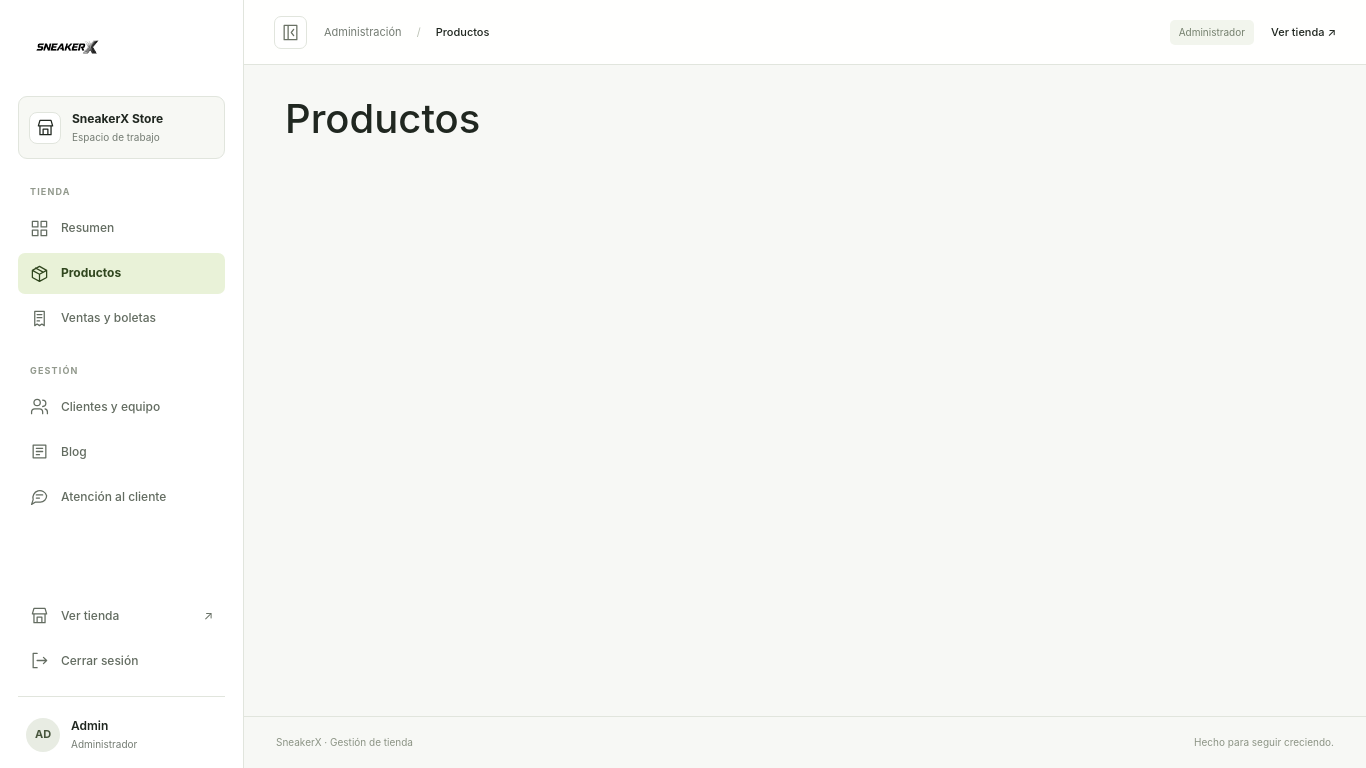
navegación administrativa › muestra el logo y conserva la navegación al contraer la barra
The width and height of the screenshot is (1366, 768).
Click the button named "Contraer barra lateral" at (290, 32), box x1=274 y1=16 x2=307 y2=48
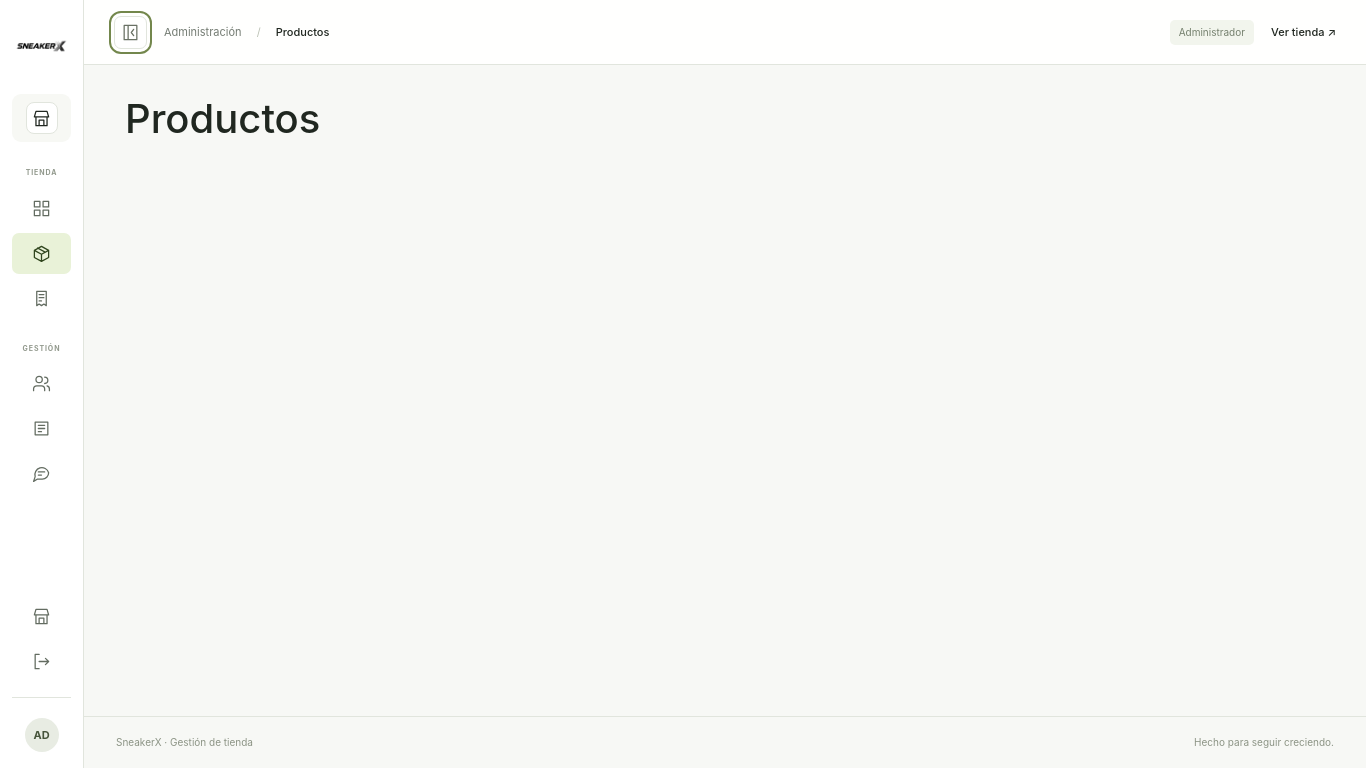
Expected: the button named "Expandir barra lateral" is shown, x1=114 y1=16 x2=147 y2=48
